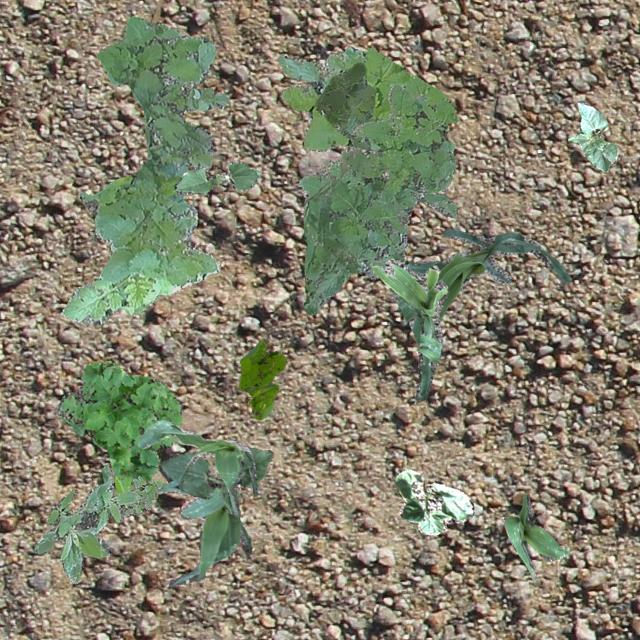crop: (394, 227, 568, 346), (136, 420, 258, 516), (371, 258, 447, 400), (154, 482, 250, 586), (158, 448, 272, 514), (502, 494, 568, 580), (393, 468, 472, 534), (568, 100, 616, 172), (173, 160, 260, 193)
weed: (61, 14, 228, 323), (298, 84, 458, 314), (278, 46, 452, 192), (54, 362, 182, 509), (32, 463, 140, 582), (314, 60, 374, 148), (238, 338, 286, 418), (122, 476, 162, 516)
